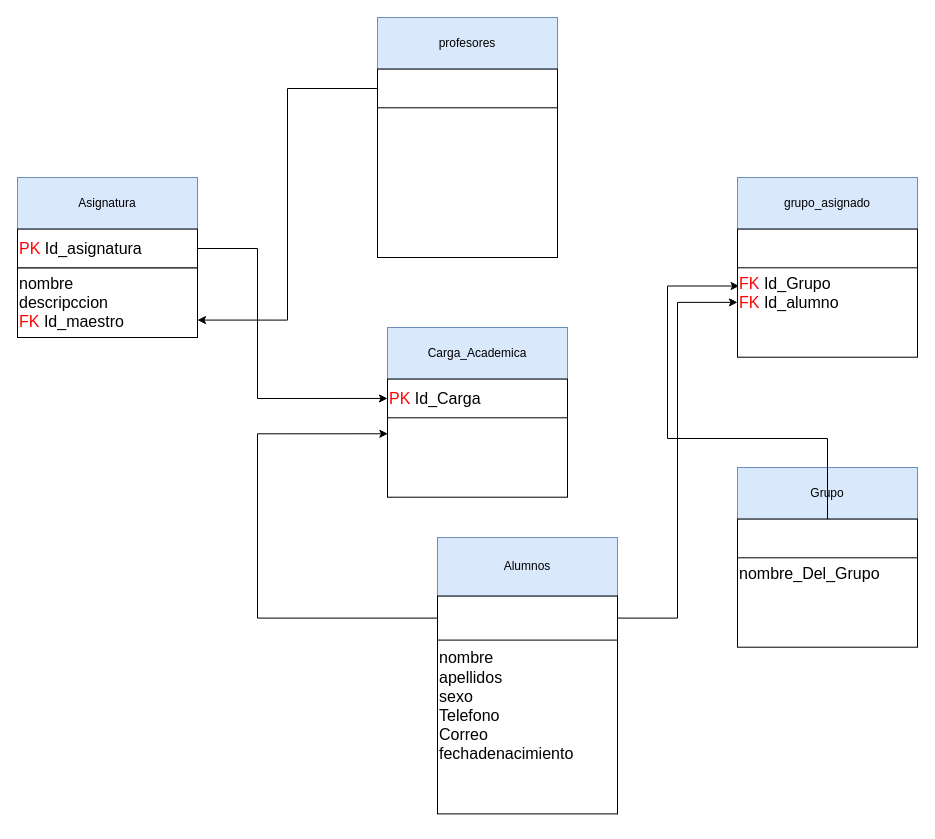
This 935x839 diagram has some shape labels left out. The box of each missing label's shape, as (x1, y1, x2, y2) in pixels:
cedulaProfesional nombre apellidos sexo telefono correo fechadenacimiento: (376, 96, 558, 258)
FK Id_alumno FK Id_asignatura: (386, 386, 568, 497)
PK Id_alumno: (436, 595, 618, 640)
PK Id_grupo: (736, 518, 918, 558)
PK Id_grupoAsig: (736, 228, 918, 268)
PK ID_profesor: (376, 68, 558, 108)
